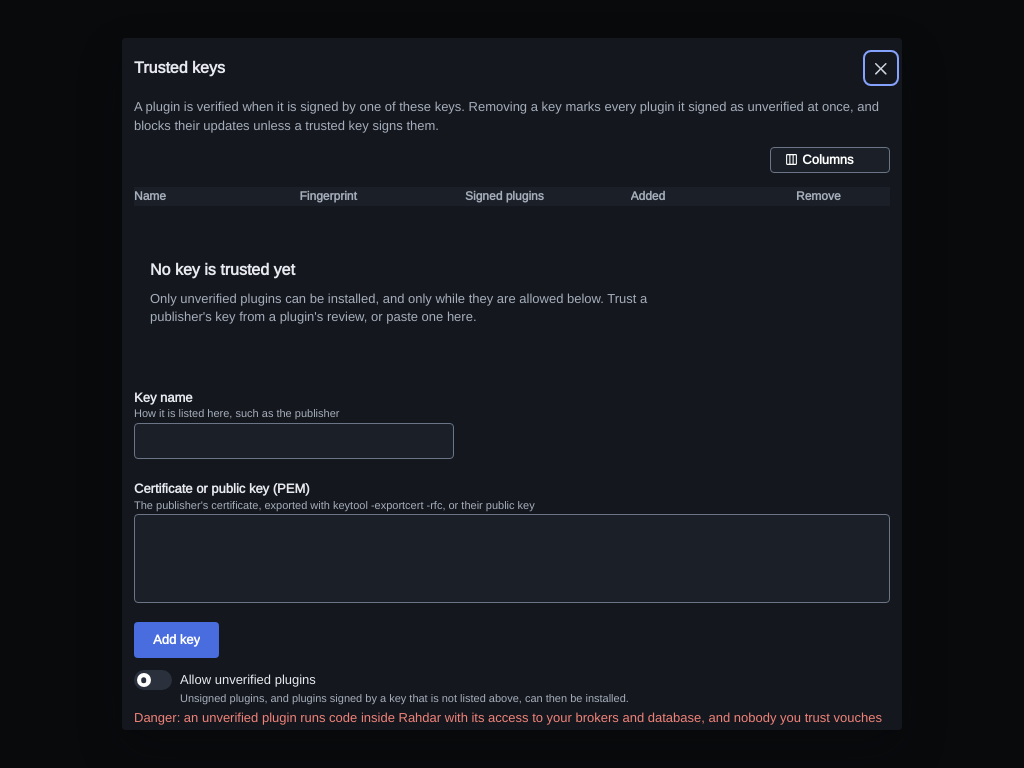
Test: Trusted keys › adds a pasted key and lists it
Expected: the text "No key is trusted yet" is shown, [150,258,295,282]
Step 1. Click the button "Add key" → (176, 640), box [134,622,219,658]
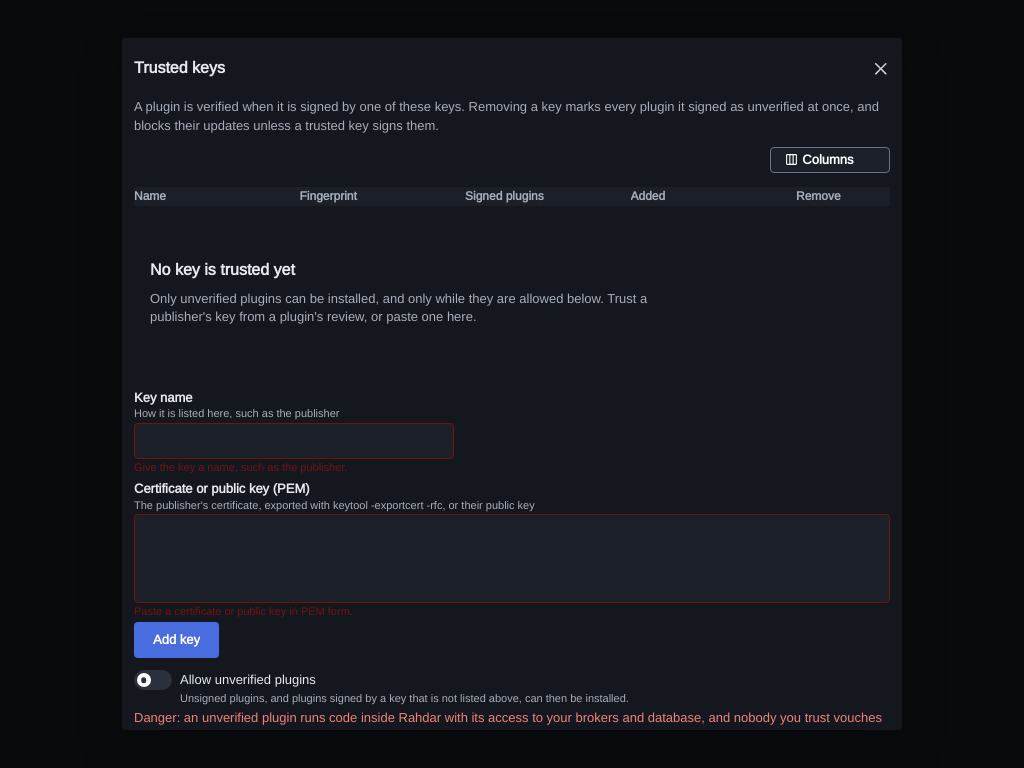
Result: the text "Give the key a name, such as the publisher." is shown at [134,460,347,474]
Step 2. Type "Acme" into the field labelled "Key name" → (294, 441), box [134,423,454,459]
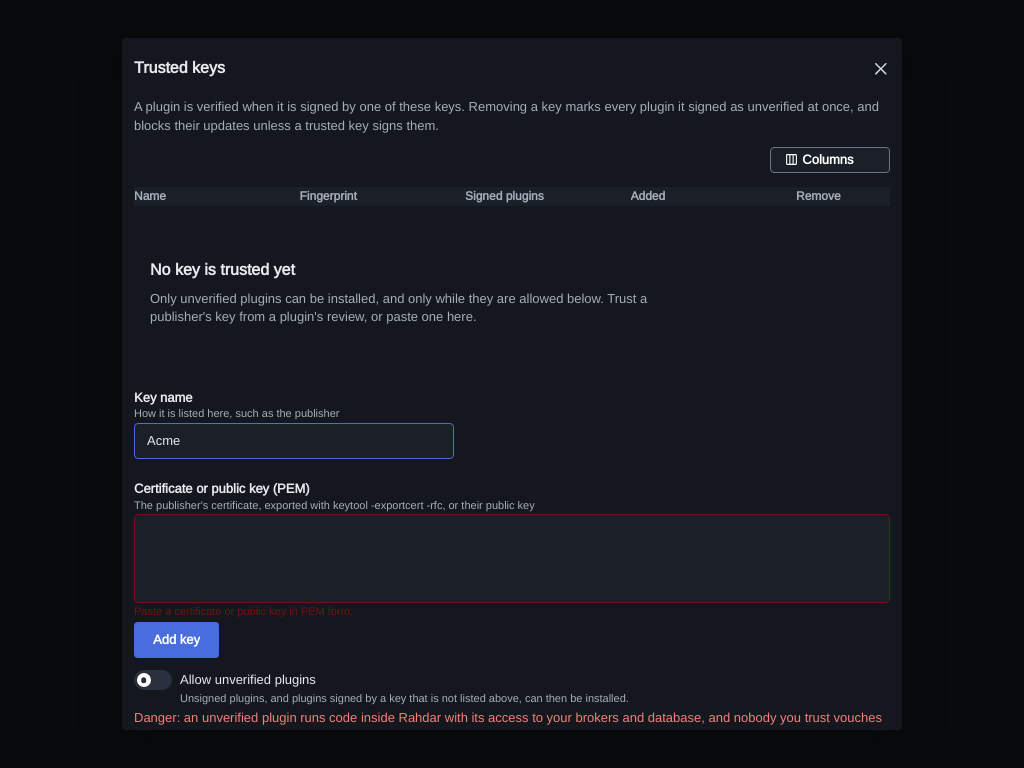
Step 3. Type "PEM" into the text box labelled "Certificate or public key (PEM)" → (512, 558), box [134,514,890,603]
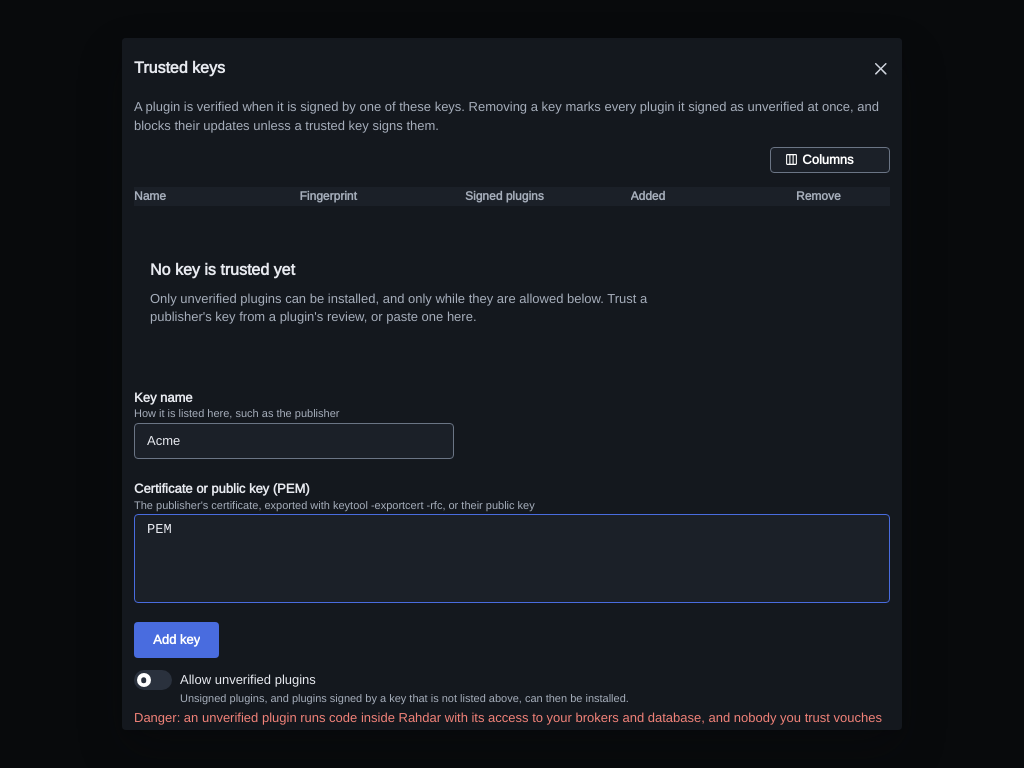
Step 4. Click the button "Add key" → (176, 640), box [134,622,219,658]
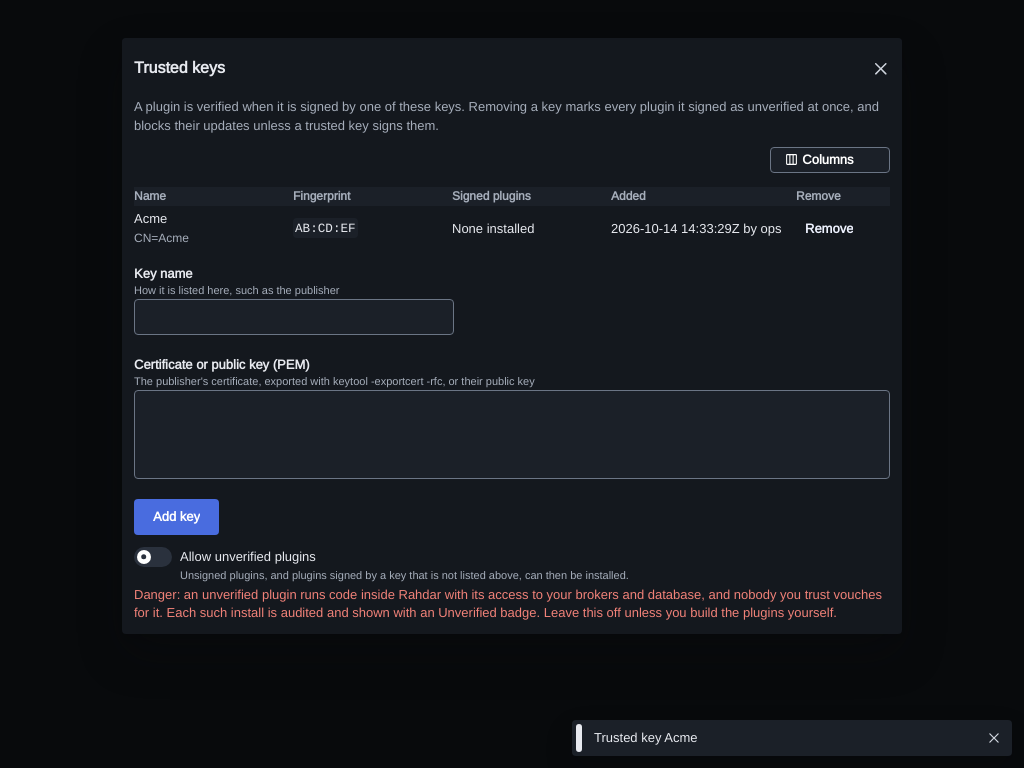
Result: the text "AB:CD:EF" is shown at [293,218,358,238]
Result: the text "Trusted key Acme" is shown at [594,729,698,746]
